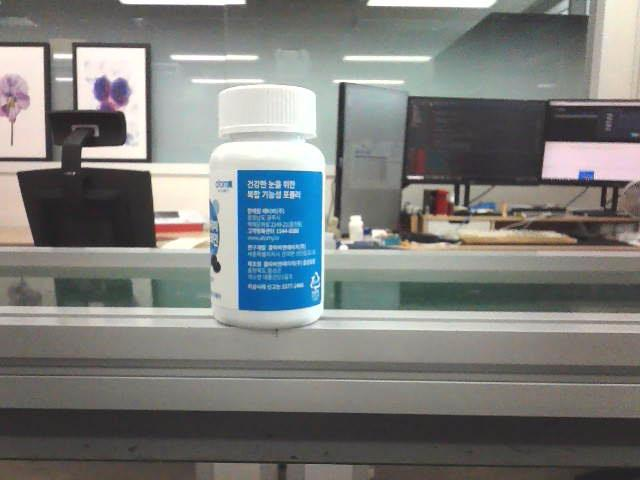labeled: (205, 82, 330, 332)
